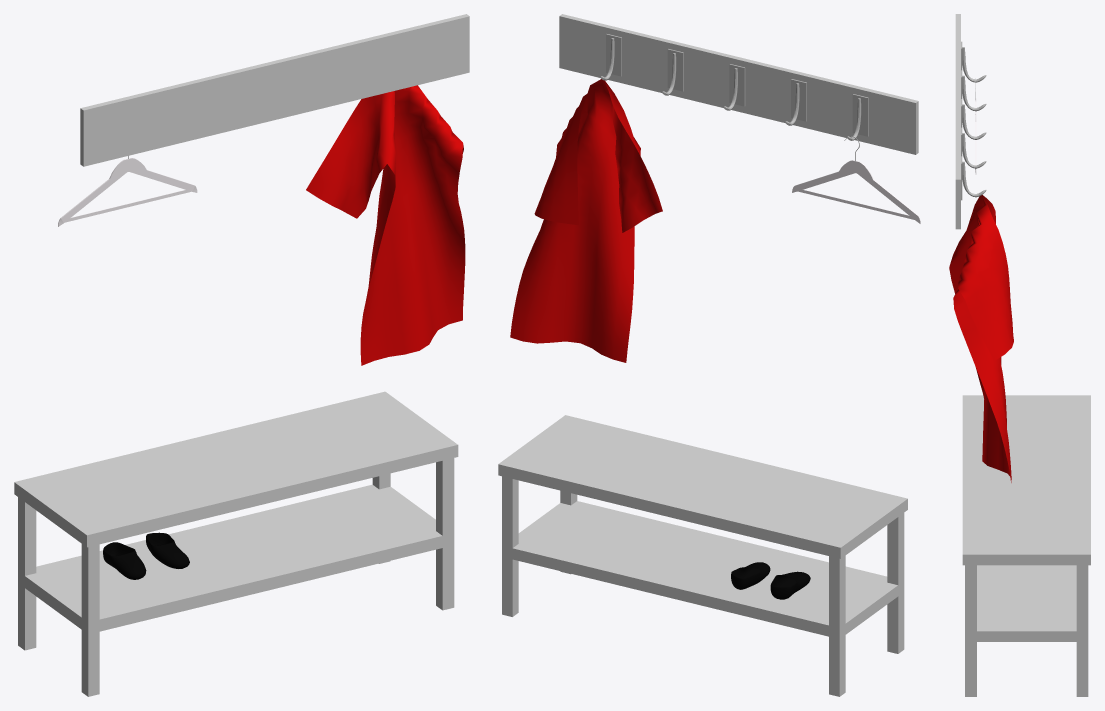
The model's file is Garderobe.fbx.
3 renders of one model, left to right at view 1: azimuth 30°, elevation 25°; view 2: azimuth 150°, elevation 25°; view 3: azimuth 270°, elevation 25°, orthographic. The views are drawn at different scales.
Visible parts, largest first — view 1: Schuhregal, Plane, Leiste, Buegel, Cube.001, Cube; view 2: Schuhregal, Plane, Leiste, Haken, Buegel, Cube.001, Cube; view 3: Schuhregal, Plane, Leiste, Haken.
Boxes of the visible parts, x1,y1,x2,y2 form: Schuhregal: (14, 391, 458, 696); Plane: (306, 85, 465, 365); Leiste: (80, 14, 469, 166); Buegel: (58, 156, 197, 226); Cube.001: (103, 542, 146, 579); Cube: (146, 532, 189, 568); Schuhregal: (498, 415, 907, 696); Plane: (510, 79, 662, 362); Leiste: (559, 14, 918, 154); Haken: (600, 34, 868, 140); Buegel: (792, 136, 920, 223); Cube.001: (770, 571, 810, 599); Cube: (731, 562, 770, 589); Schuhregal: (962, 395, 1090, 696); Plane: (949, 195, 1013, 482); Leiste: (955, 14, 960, 229); Haken: (961, 41, 986, 200).
Bounding box in the file's own units: 118 × 157 × 38.64.
